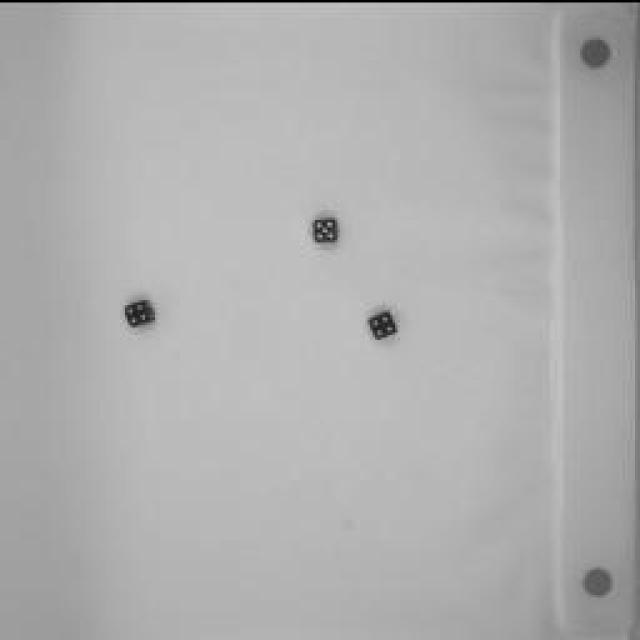dice_4: (365, 305, 403, 345), (119, 294, 159, 331)
dice_5: (311, 209, 344, 249)
